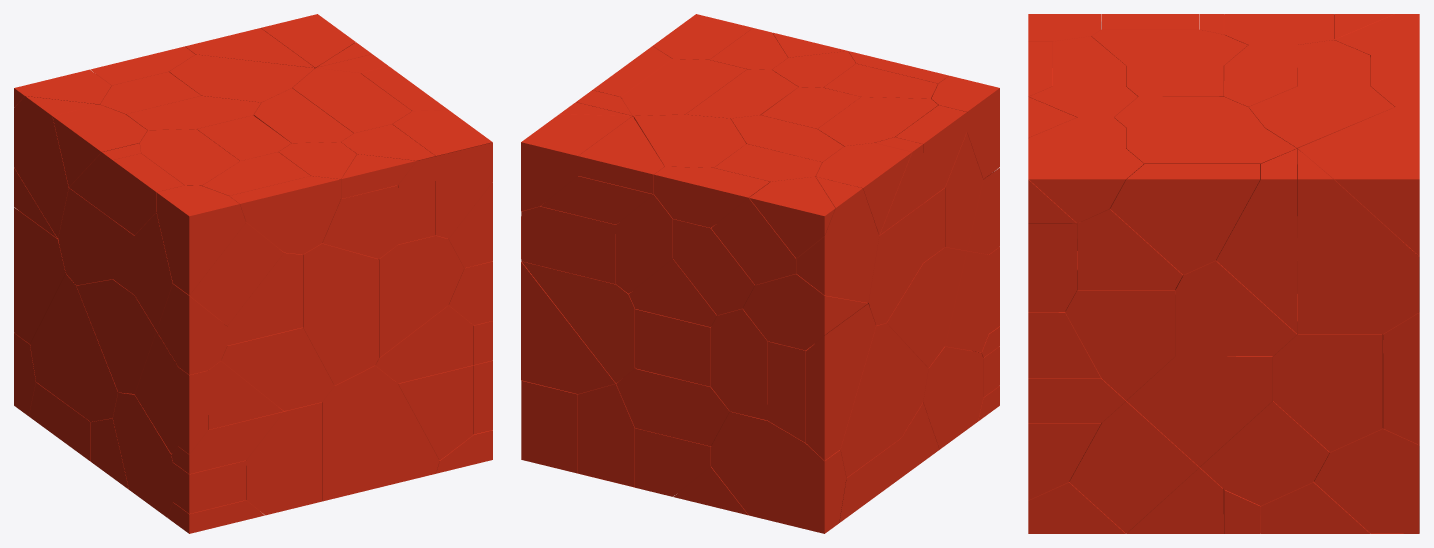
File: jambusariyas_animation_FULL.glb
The picture shows the model from 3 angles, left to right: view 1: azimuth 30°, elevation 25°; view 2: azimuth 150°, elevation 25°; view 3: azimuth 270°, elevation 25°; orthographic projection. The views are drawn at different scales.
Parts seen in each view (by area): view 1: Cube_cell.098, Cube_cell.027, Cube_cell.055, Cube_cell.001, Cube_cell.077, Cube_cell.054, Cube_cell.016, Cube_cell.032, Cube_cell.019, Cube_cell.088, Cube_cell.008, Cube_cell.049 (+47 smaller); view 2: Cube_cell.061, Cube_cell.055, Cube_cell.008, Cube_cell.019, Cube_cell.023, Cube_cell.003, Cube_cell.066, Cube_cell.064, Cube_cell.015, Cube_cell.043, Cube_cell.088, Cube_cell.065 (+43 smaller); view 3: Cube_cell.099, Cube_cell.024, Cube_cell.073, Cube_cell.050, Cube_cell.038, Cube_cell.036, Cube_cell.081, Cube_cell.079, Cube_cell.095, Cube_cell.057, Cube_cell.043, Cube_cell.097 (+31 smaller).
Part boxes in pixels (x1,y1,x2,y2): Cube_cell.098: (322, 365, 439, 501); Cube_cell.027: (303, 243, 378, 385); Cube_cell.055: (30, 274, 118, 421); Cube_cell.001: (378, 235, 464, 357); Cube_cell.077: (246, 402, 321, 515); Cube_cell.054: (156, 185, 245, 295); Cube_cell.016: (221, 327, 334, 410); Cube_cell.032: (229, 176, 340, 254); Cube_cell.019: (14, 96, 98, 238); Cube_cell.088: (76, 279, 156, 393); Cube_cell.008: (14, 207, 65, 343); Cube_cell.049: (112, 392, 172, 517); Cube_cell.061: (711, 411, 846, 533); Cube_cell.055: (840, 323, 928, 477); Cube_cell.008: (806, 304, 875, 460); Cube_cell.019: (796, 177, 879, 302); Cube_cell.023: (521, 261, 635, 382); Cube_cell.003: (521, 261, 615, 393); Cube_cell.066: (616, 368, 729, 446); Cube_cell.064: (521, 203, 616, 284); Cube_cell.015: (742, 273, 867, 350); Cube_cell.043: (521, 114, 632, 211); Cube_cell.088: (887, 247, 966, 368); Cube_cell.065: (711, 308, 767, 420); Cube_cell.099: (1297, 149, 1419, 334); Cube_cell.024: (1110, 164, 1260, 274); Cube_cell.073: (1273, 294, 1382, 452); Cube_cell.050: (1126, 295, 1272, 466); Cube_cell.038: (1069, 401, 1199, 533); Cube_cell.036: (1216, 149, 1297, 333); Cube_cell.081: (1065, 270, 1174, 400); Cube_cell.079: (1314, 429, 1419, 533); Cube_cell.095: (1175, 260, 1296, 356); Cube_cell.057: (1200, 356, 1329, 505); Cube_cell.043: (1298, 148, 1419, 256); Cube_cell.097: (1028, 148, 1143, 223).
Bounding box in the file's own units: 2 × 2 × 2.
